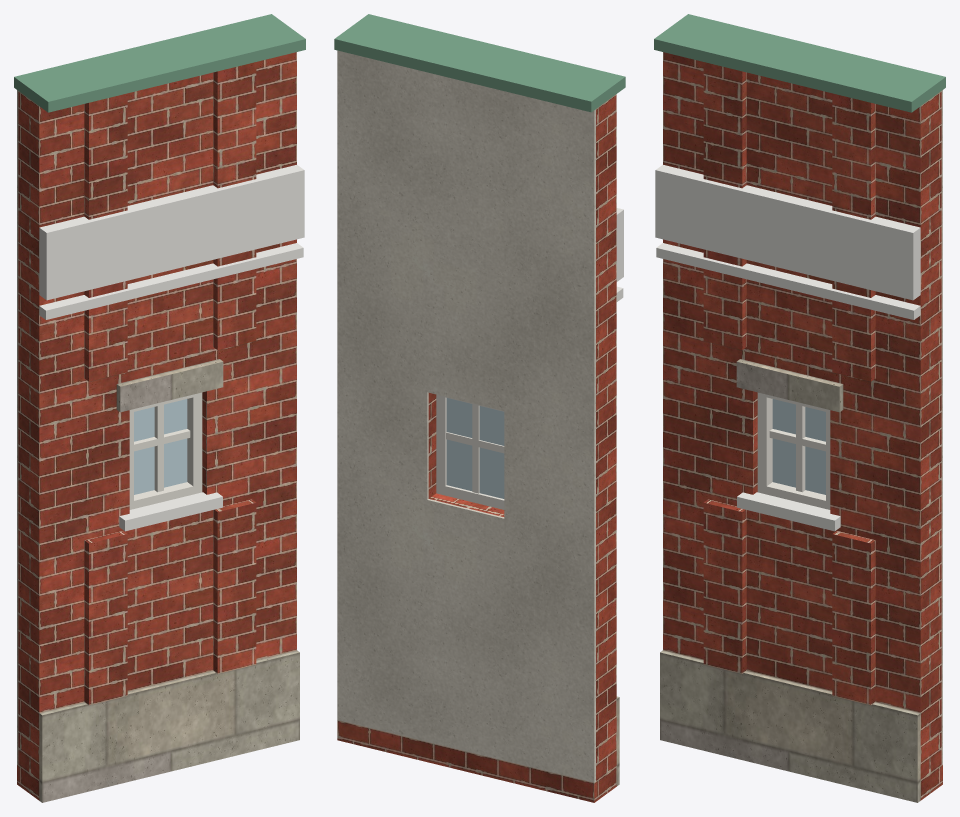
Rendered from wall_brick_small_window.glb.
3 views of the same model, side by side, from view 1: azimuth 30°, elevation 25°; view 2: azimuth 150°, elevation 25°; view 3: azimuth 330°, elevation 25° (orthographic).
Visible parts, largest first — view 1: wall_brick_small_window_brick, wall_brick_small_window_stone, wall_brick_small_window_trim, wall_brick_small_window_coping, wall_brick_small_window_frame, wall_brick_small_window_glass, wall_brick_small_window_plaster; view 2: wall_brick_small_window_plaster, wall_brick_small_window_brick, wall_brick_small_window_coping, wall_brick_small_window_glass, wall_brick_small_window_frame, wall_brick_small_window_trim; view 3: wall_brick_small_window_brick, wall_brick_small_window_stone, wall_brick_small_window_trim, wall_brick_small_window_coping, wall_brick_small_window_frame, wall_brick_small_window_glass, wall_brick_small_window_plaster.
Part boxes in pixels (x1,y1,x2,y2): wall_brick_small_window_brick: (17, 52, 296, 800); wall_brick_small_window_stone: (39, 359, 299, 802); wall_brick_small_window_trim: (39, 165, 304, 531); wall_brick_small_window_coping: (14, 14, 305, 112); wall_brick_small_window_frame: (129, 392, 202, 509); wall_brick_small_window_glass: (134, 399, 187, 494); wall_brick_small_window_plaster: (17, 90, 18, 764); wall_brick_small_window_plaster: (337, 50, 595, 782); wall_brick_small_window_brick: (337, 94, 616, 802); wall_brick_small_window_coping: (334, 14, 625, 112); wall_brick_small_window_glass: (446, 398, 504, 498); wall_brick_small_window_frame: (436, 394, 504, 509); wall_brick_small_window_trim: (616, 208, 623, 301); wall_brick_small_window_brick: (663, 52, 942, 800); wall_brick_small_window_stone: (660, 359, 920, 802); wall_brick_small_window_trim: (655, 165, 920, 531); wall_brick_small_window_coping: (654, 14, 945, 112); wall_brick_small_window_frame: (757, 392, 830, 509); wall_brick_small_window_glass: (772, 399, 825, 494); wall_brick_small_window_plaster: (941, 90, 942, 764).
Bounding box in the file's own units: 2 × 5.23 × 0.46.
Materials: 7 (3 with a texture image).
